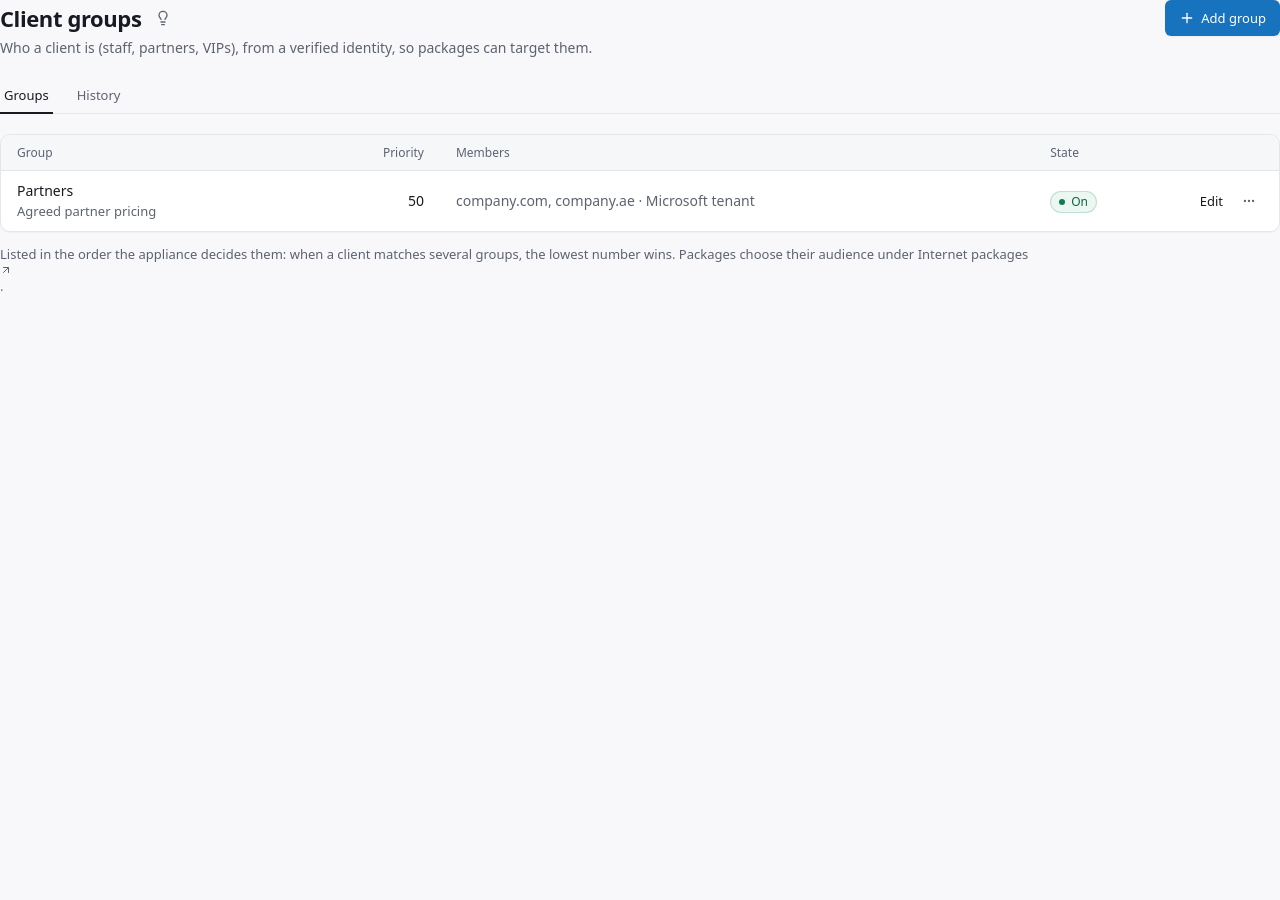
Test: deleting a group › is refused while a package names it as its audience, and says which packages
Expected: the text "Partners" is shown, left=17, top=181, right=73, bottom=200
Press Enter in the button named "Actions for Partners", box left=1235, top=187, right=1263, bottom=215
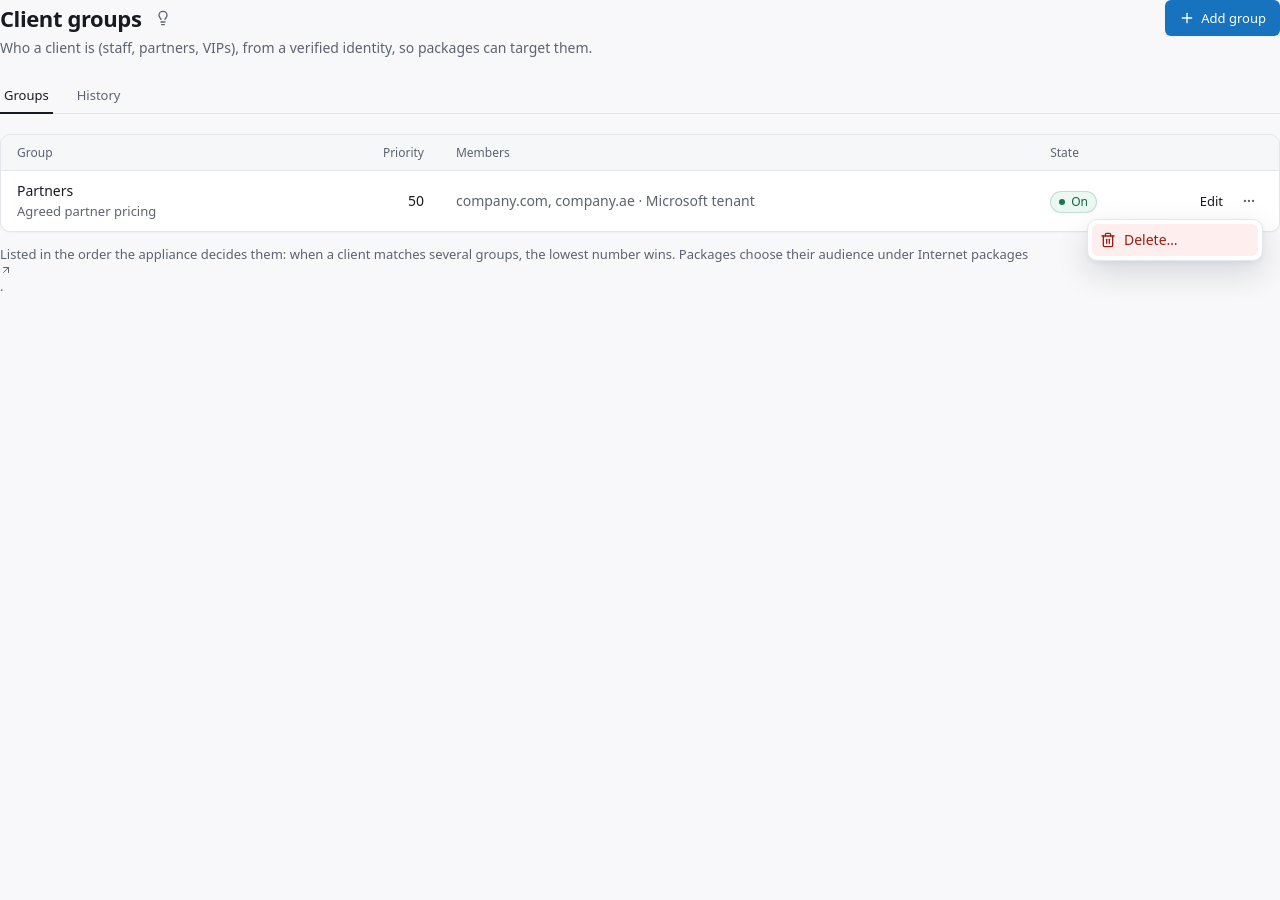
Click the menu item "Delete…" at (1175, 240), box left=1092, top=224, right=1258, bottom=256
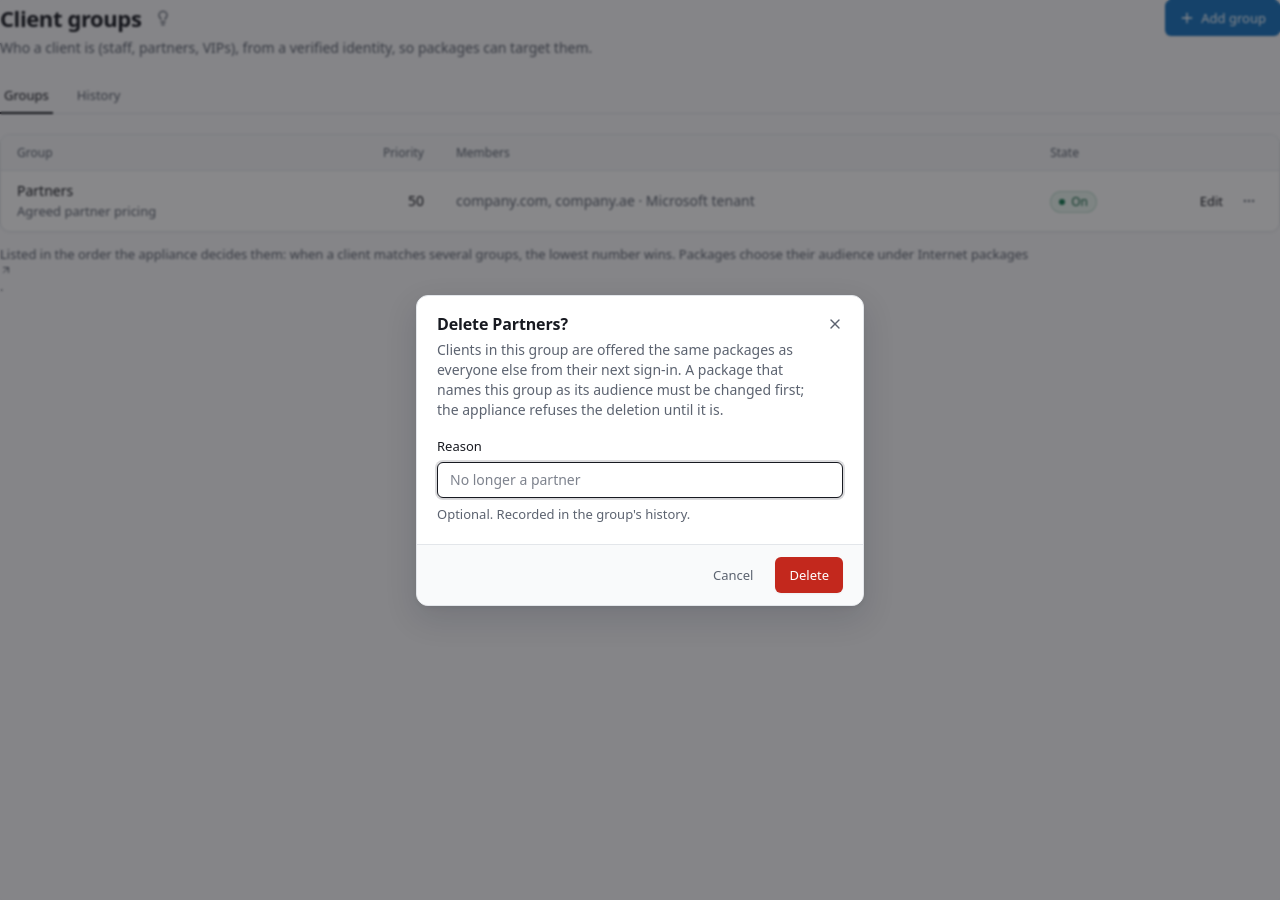
Type "ended" into the field labelled "Reason" at (640, 480), box left=437, top=462, right=843, bottom=498
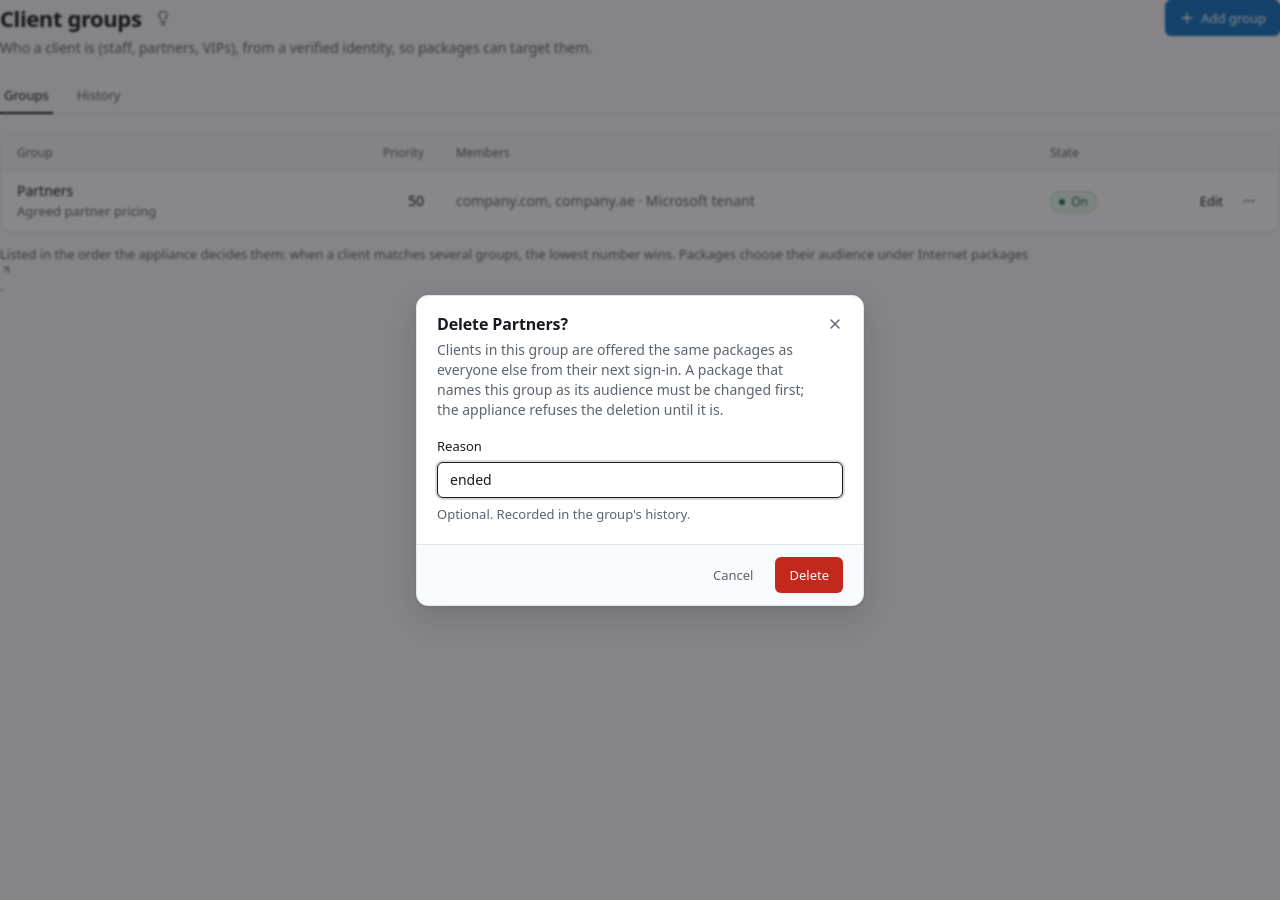
Click the button "Delete" at (809, 574), box left=776, top=556, right=843, bottom=592
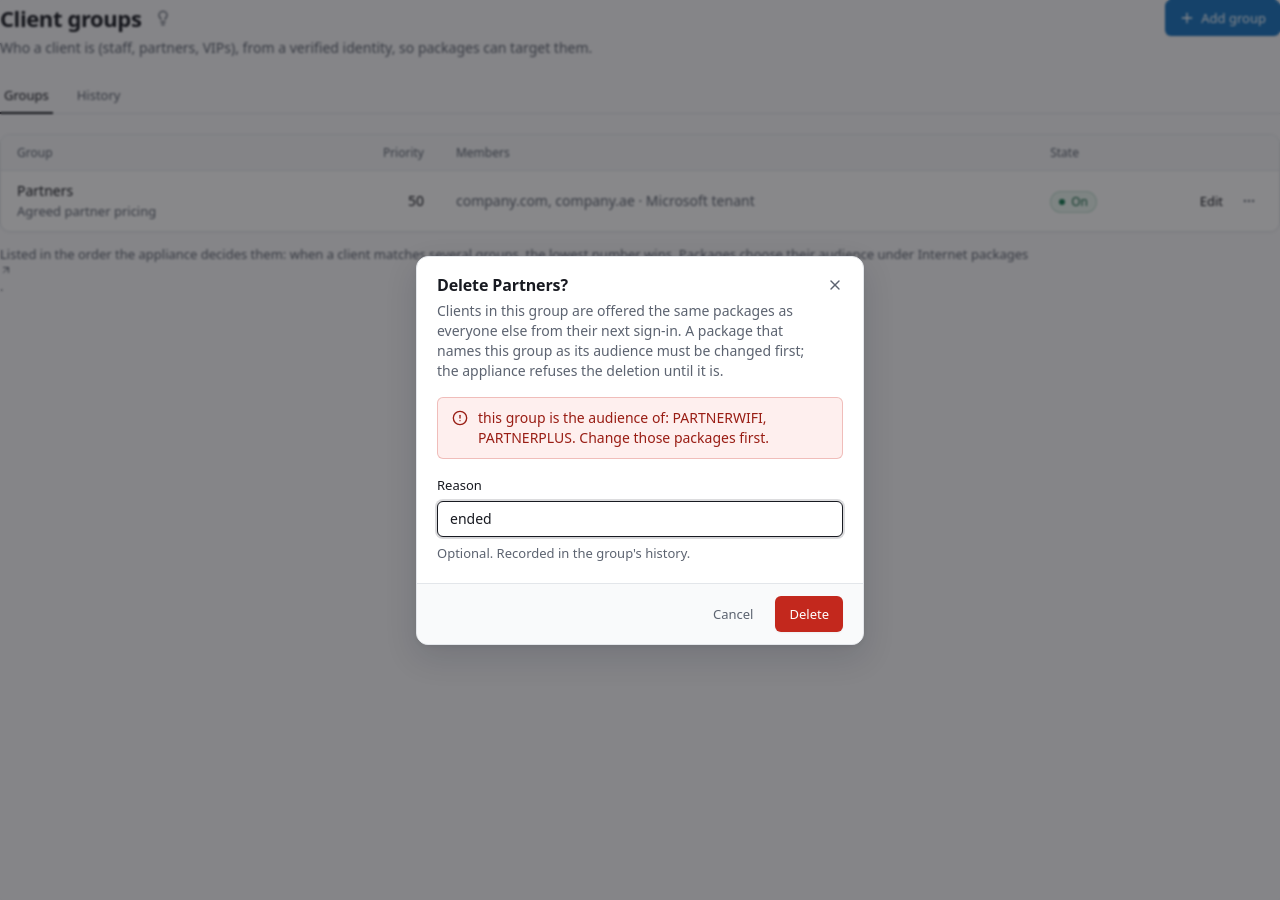
Expected: the text "Partners" is shown, left=17, top=181, right=73, bottom=200
Now the text "this group is the audience of: PARTNERWIFI, PARTNERPLUS. Change those packages first." is shown, box left=478, top=408, right=769, bottom=446
